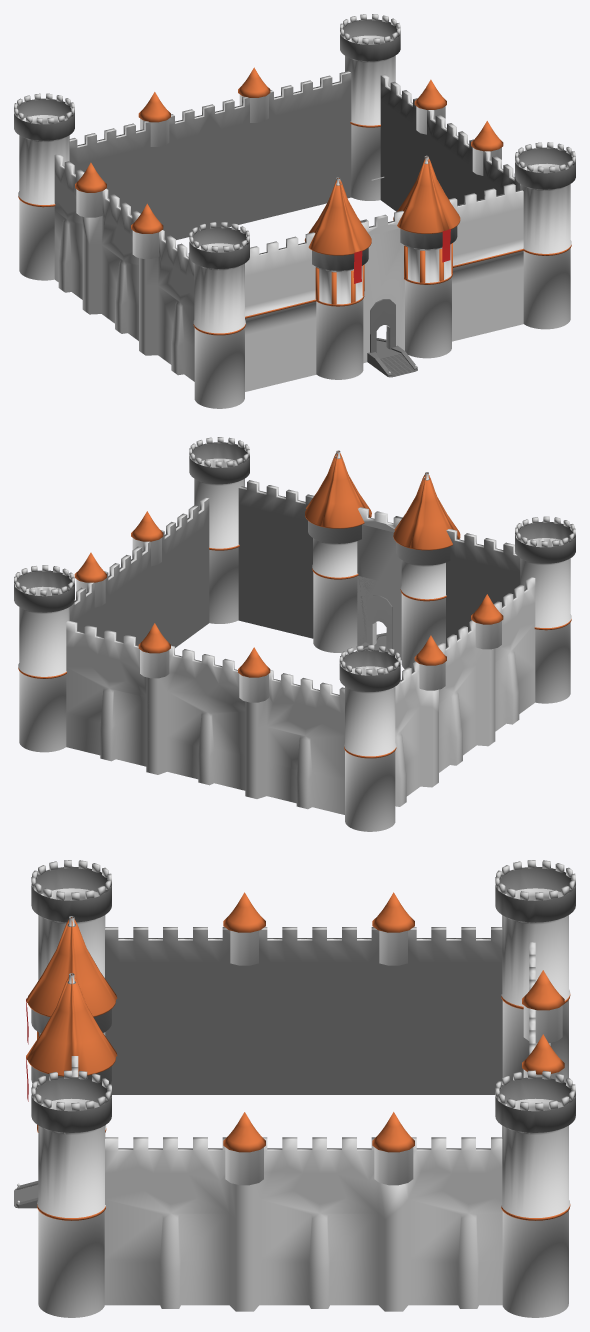
Rendered from castel.fbx.
3 views of the same model, one above another, from view 1: azimuth 30°, elevation 25°; view 2: azimuth 150°, elevation 25°; view 3: azimuth 270°, elevation 25° (orthographic). The views are drawn at different scales.
Parts seen in each view (by area): view 1: Castle, Castle.003; view 2: Castle, Castle.003; view 3: Castle, Castle.003.
Part boxes in pixels (x1,y1,x2,y2): Castle: (14,14,575,408); Castle.003: (367,299,417,377); Castle: (14,437,575,831); Castle.003: (356,595,395,654); Castle: (26,860,575,1317); Castle.003: (14,1181,38,1208).
Bounding box in the file's own units: 23437 × 11314 × 22760.
